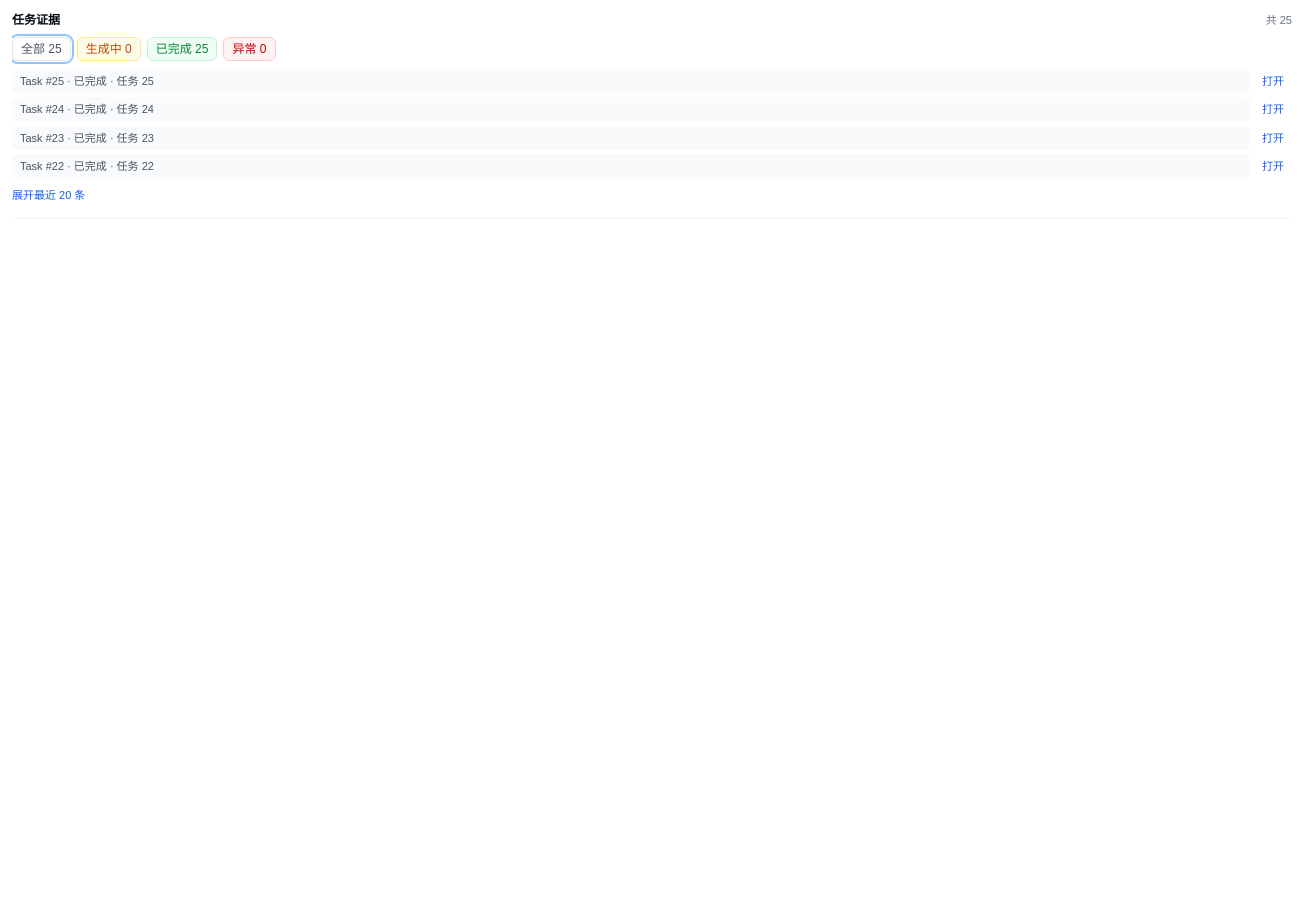
ProductionCanvasGraph › caps expanded task evidence summaries to recent tasks
Expected: the text "Task #6 · 已完成 · 任务 6" is not shown
What coordinates should you click on to do the following:
click the button with aria-label "展开最近 20 条任务"
I would click on:
 (49, 195)
Its box is [12,186,85,203].
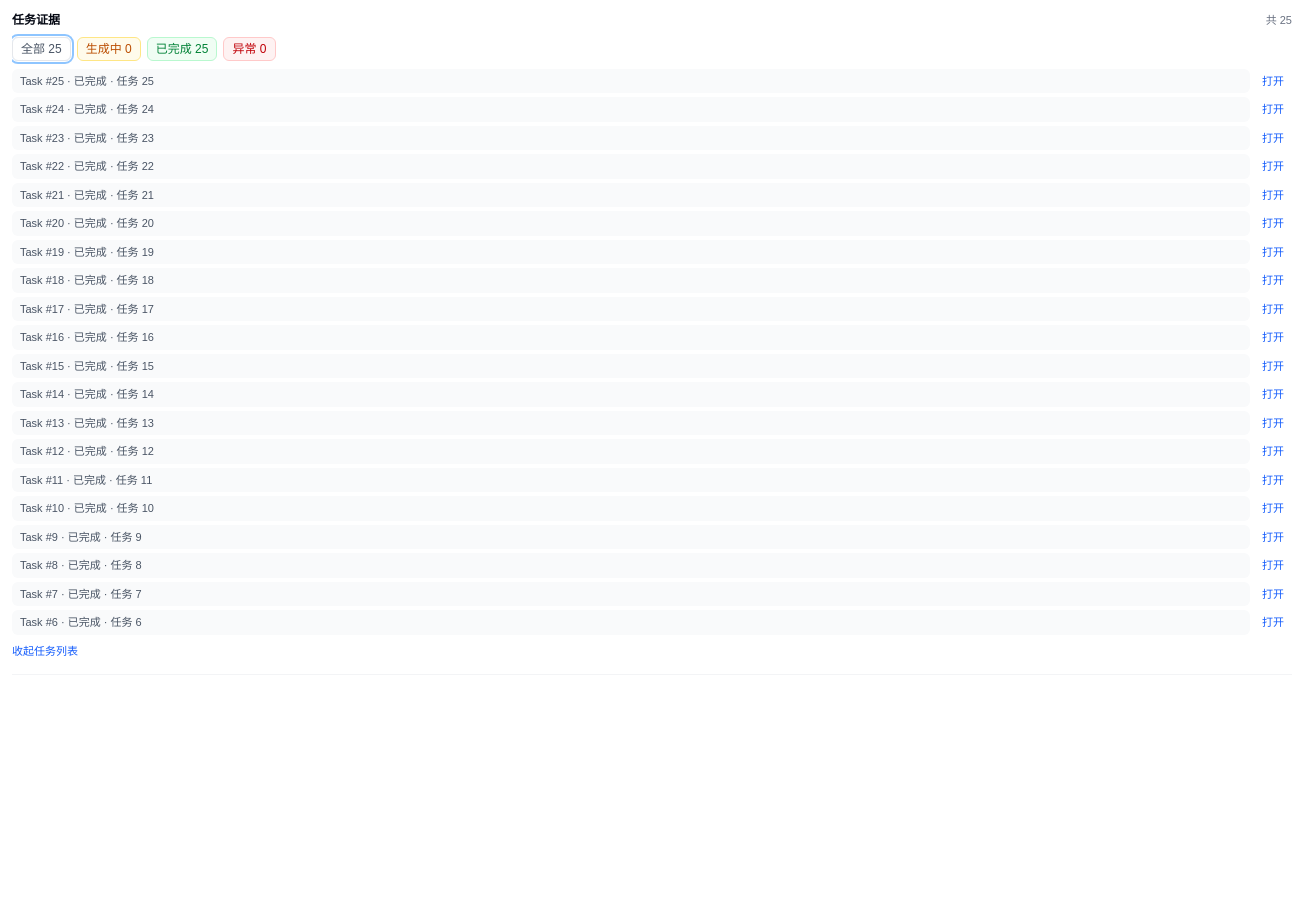
Expected: the text "Task #6 · 已完成 · 任务 6" is shown, [20,616,142,628]
